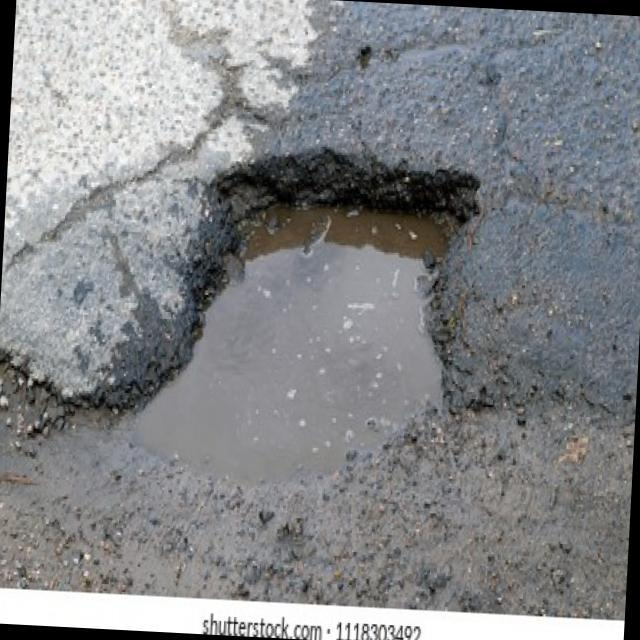Pothole: (94, 128, 488, 508)
